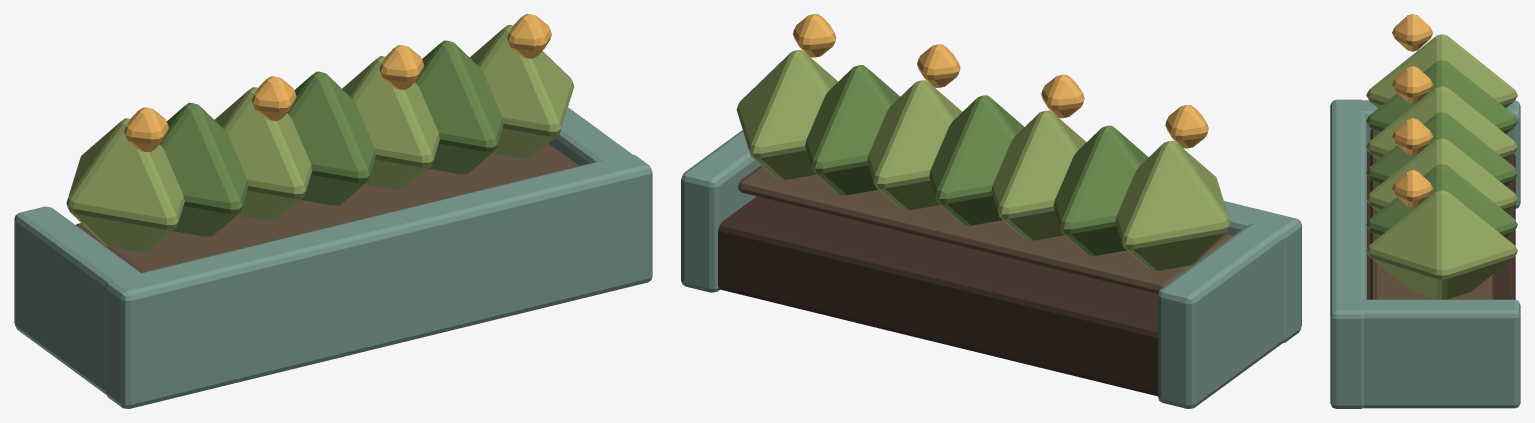
File: attachment_flowerbox.glb
The picture shows the model from 3 angles, left to right: view 1: azimuth 30°, elevation 25°; view 2: azimuth 150°, elevation 25°; view 3: azimuth 270°, elevation 25°; orthographic projection. The views are drawn at different scales.
Parts seen in each view (by area): view 1: attachment_flowerbox__attachments; view 2: attachment_flowerbox__attachments; view 3: attachment_flowerbox__attachments.
Boxes of the visible parts, x1,y1,x2,y2 form: attachment_flowerbox__attachments: (14,14,652,408); attachment_flowerbox__attachments: (681,14,1301,408); attachment_flowerbox__attachments: (1330,14,1520,408).
Bounding box in the file's own units: 1.04 × 0.4721 × 0.3875.
